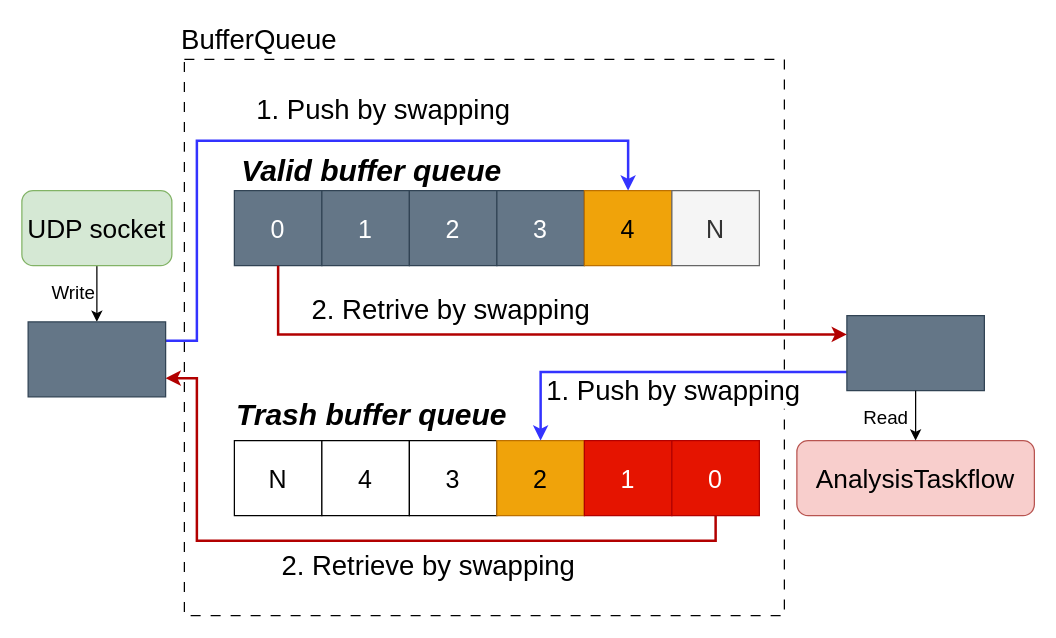
Image size: 1056x638. Some labels were removed from this diagram. The centre of each missing label's shape, as x and y in pixels:
"Input buffer" belongs at [915,352].
"UDP buffer" belongs at [96,359].
